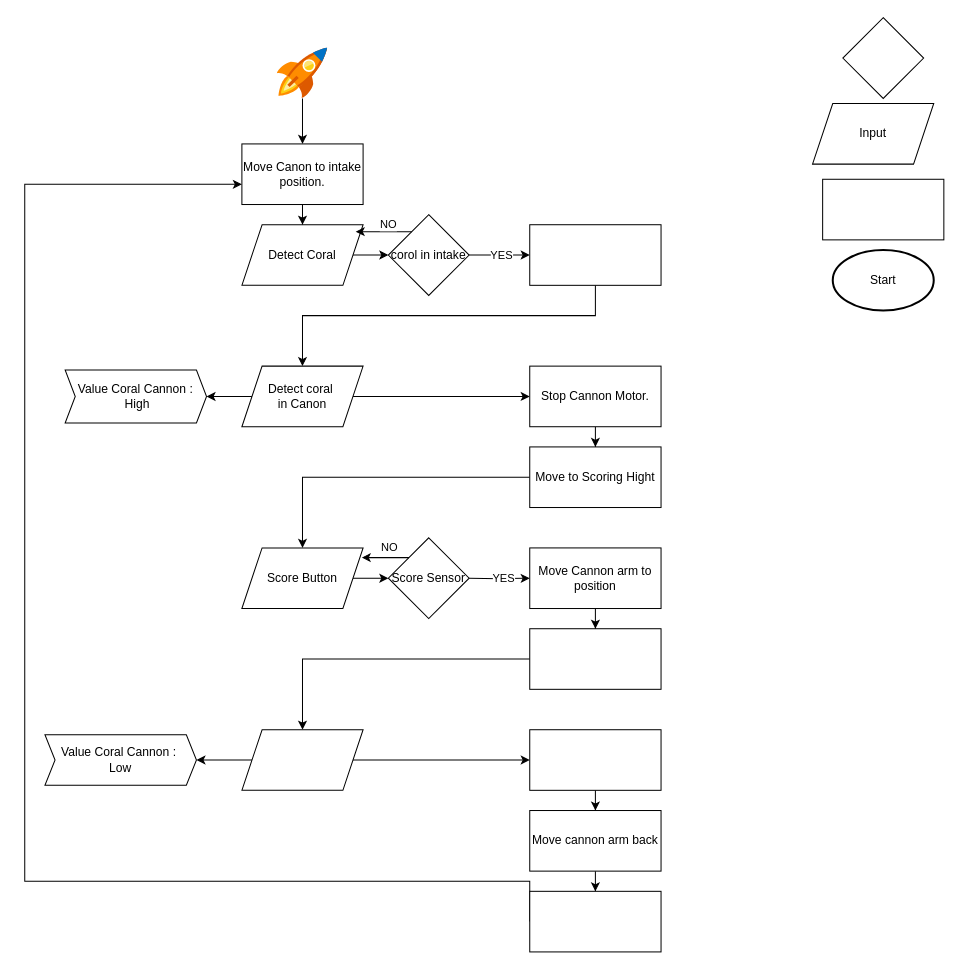
This 962x970 diagram has some shape labels left out. The box of each missing label's shape, as (x1, y1, x2, y2) in pixels:
Actie: (822, 178, 944, 240)
Cannon Motor Rotates Inwards: (529, 224, 661, 285)
Cannon Motor Rotates Outwards: (529, 628, 661, 689)
Conditional Statment: (842, 17, 924, 98)
Detect NO Coral In Cannon: (241, 729, 363, 790)
Move Lift Down: (529, 890, 661, 952)
Stop Cannon Motor: (529, 729, 661, 790)
